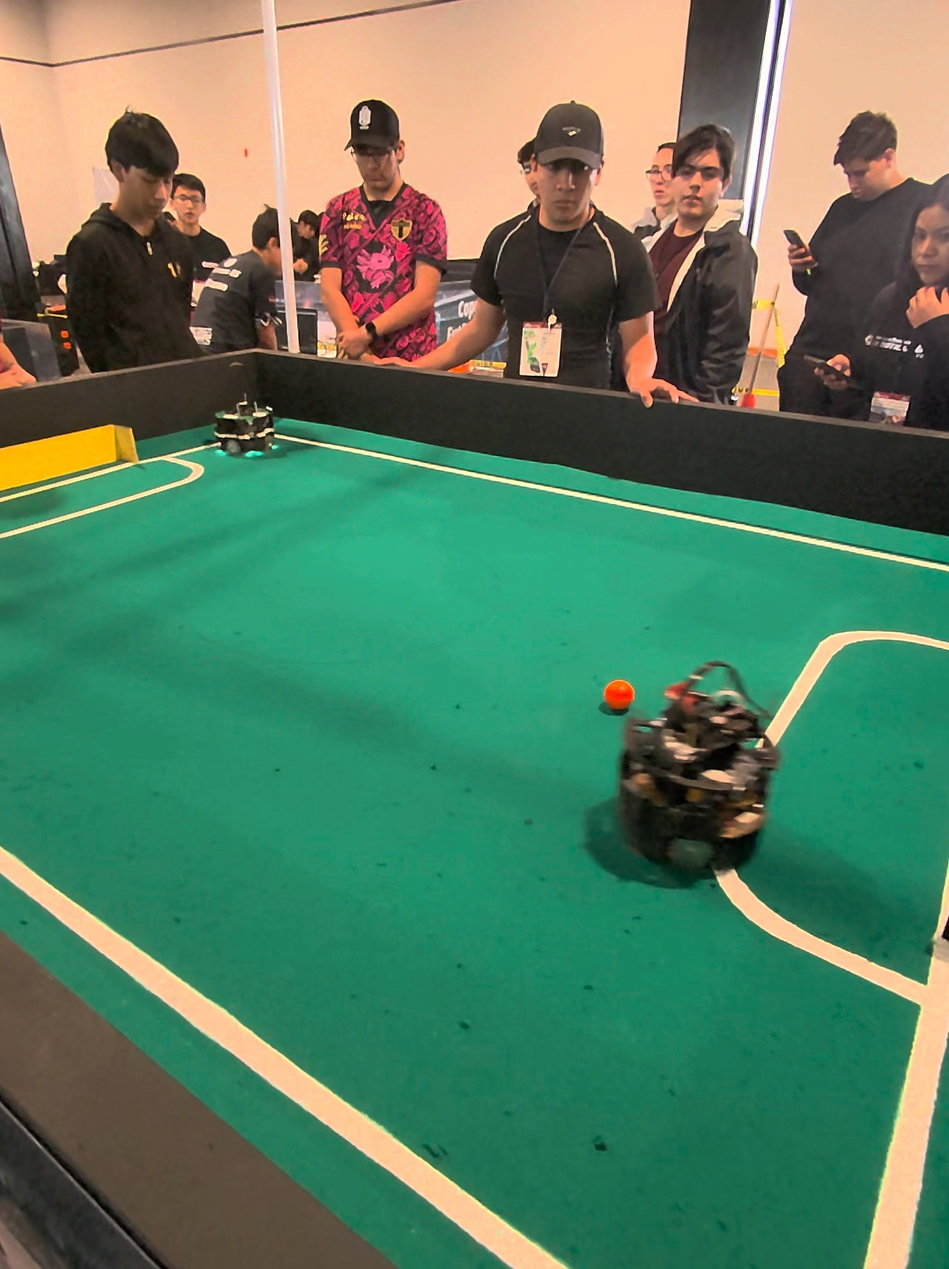Robot: (619, 643, 795, 896), (208, 348, 281, 472)
pelota: (604, 681, 635, 715)
